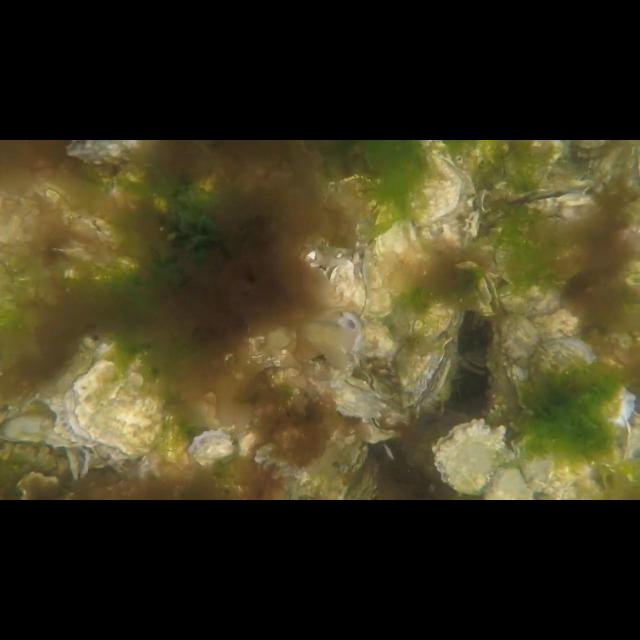Oyster-Closed: (530, 337, 636, 427), (512, 431, 594, 495), (406, 140, 464, 228), (375, 203, 427, 299), (496, 314, 542, 412), (312, 376, 388, 422), (0, 411, 72, 449), (499, 282, 565, 320), (62, 140, 146, 167), (368, 248, 394, 320), (483, 464, 535, 500)
Oyster-Open: (70, 359, 166, 457), (434, 417, 508, 495), (399, 337, 455, 408), (506, 185, 596, 228), (419, 299, 465, 346), (189, 428, 235, 464), (358, 414, 404, 444), (328, 258, 358, 304), (339, 437, 371, 479), (354, 247, 372, 321), (456, 345, 494, 377), (476, 273, 502, 319), (65, 441, 91, 482), (462, 210, 482, 238)
